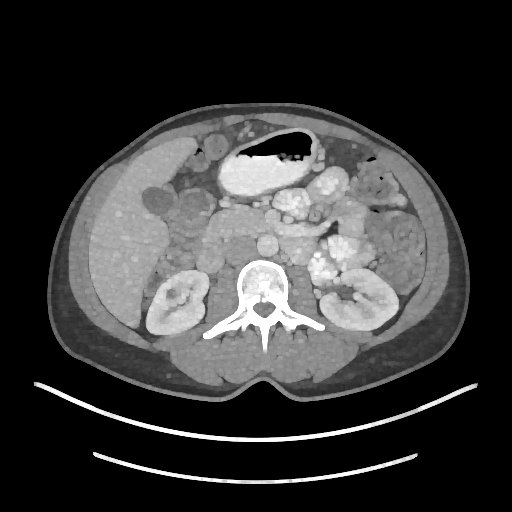Lesion: (160, 283, 181, 303)
